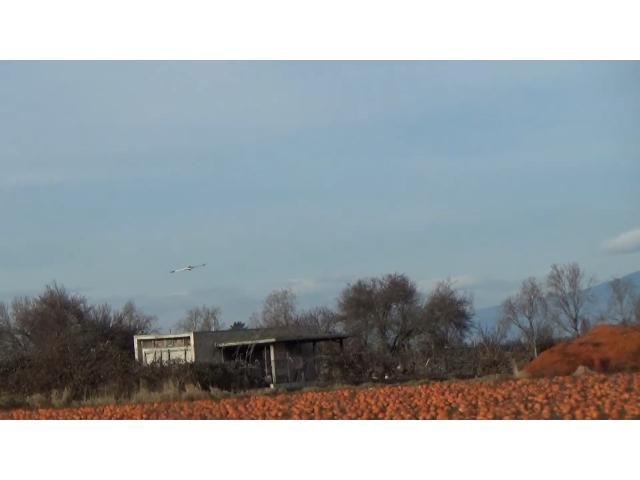Anti-Drone: (170, 264, 207, 272)
